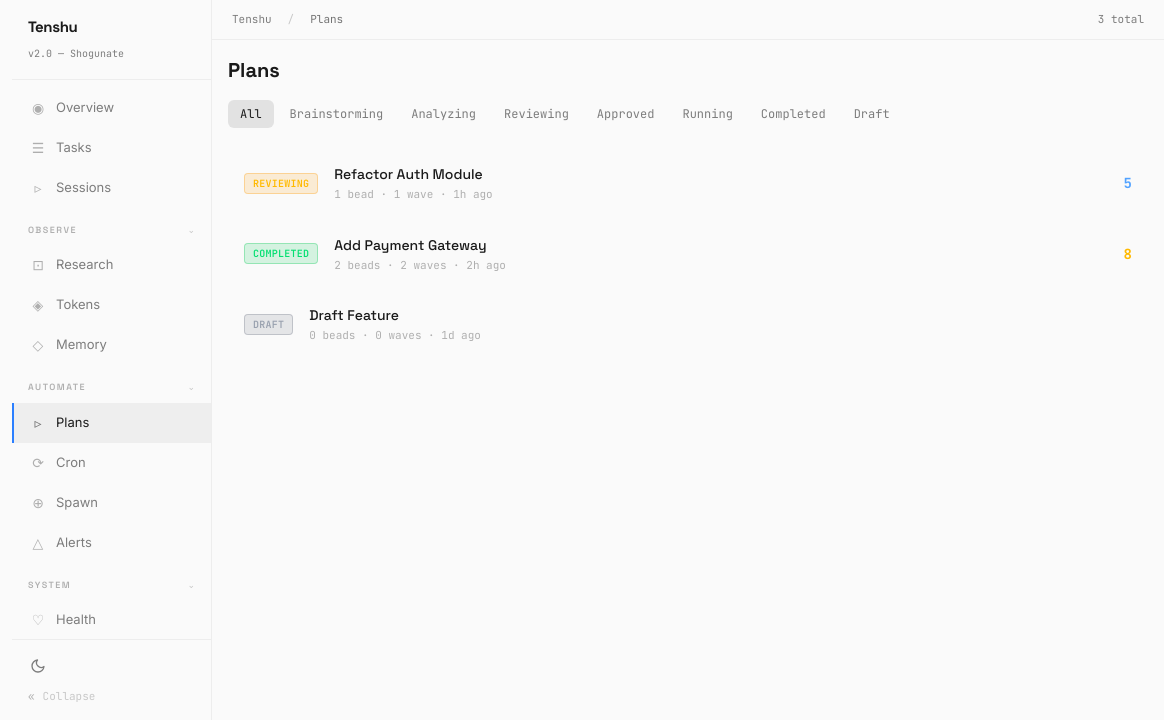
Test: PlansPage › shows empty state when filter matches nothing
Check: the text "Refactor Auth Module" is shown, box [334,165,483,183]
Click the button "Running".
click(708, 114)  # box [670,100,745,128]
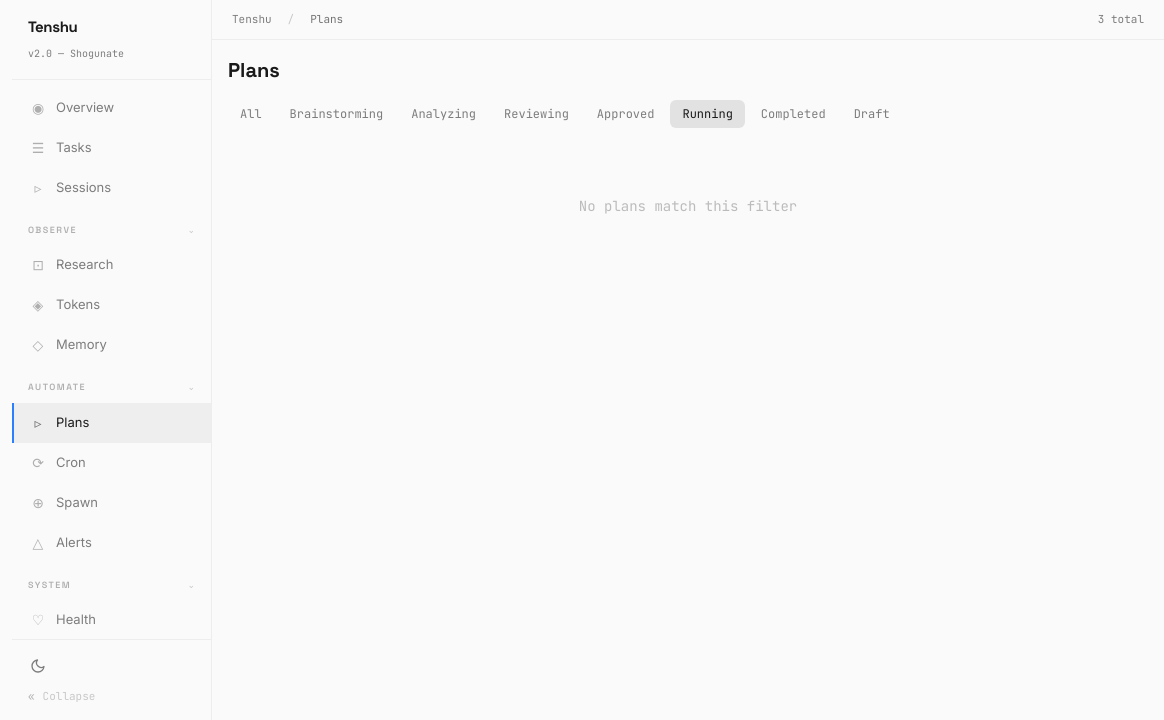
Check: the text "No plans match this filter" is shown, box [579,197,797,215]
